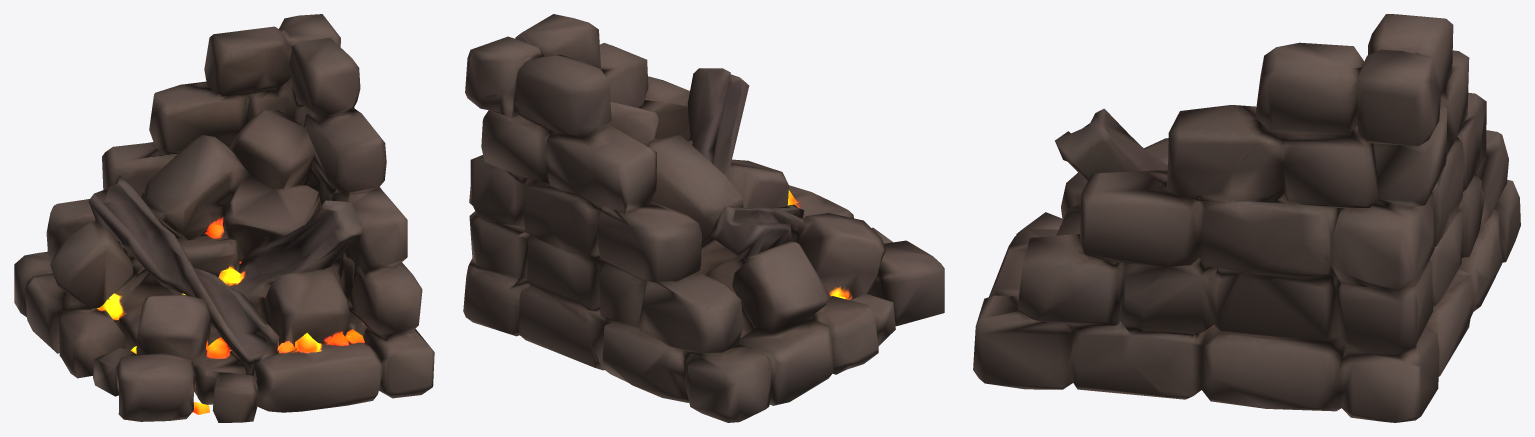
The model's file is fg_rubble-CnnZF73l.glb.
3 views of the same model, side by side, from view 1: azimuth 30°, elevation 25°; view 2: azimuth 150°, elevation 25°; view 3: azimuth 270°, elevation 25° (orthographic). The views are drawn at different scales.
Parts seen in each view (by area): view 1: tripo_node_f6a6371c-d5ad-4e93-abac-ec44cda92f55; view 2: tripo_node_f6a6371c-d5ad-4e93-abac-ec44cda92f55; view 3: tripo_node_f6a6371c-d5ad-4e93-abac-ec44cda92f55.
Boxes of the visible parts, left/top/right/bottom form: tripo_node_f6a6371c-d5ad-4e93-abac-ec44cda92f55: left=14, top=14, right=434, bottom=422; tripo_node_f6a6371c-d5ad-4e93-abac-ec44cda92f55: left=463, top=14, right=944, bottom=422; tripo_node_f6a6371c-d5ad-4e93-abac-ec44cda92f55: left=973, top=14, right=1520, bottom=422.
Size of the model in its own units: 2.13 by 1.56 by 2.27.
Materials: 1 (1 with a texture image).
